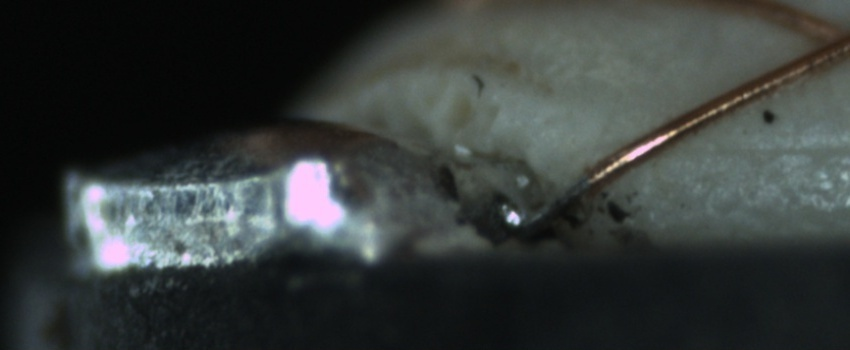CL: (803, 2, 849, 67)
DL: (687, 115, 850, 176)
TS: (501, 174, 581, 236)
